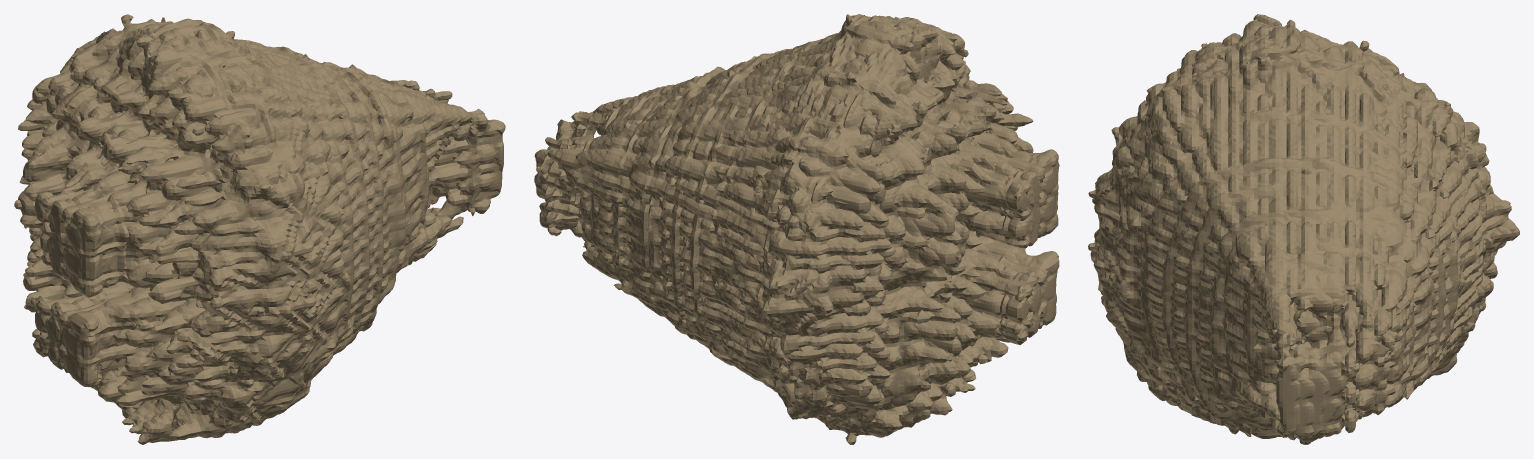
The model's file is raw.glb.
The picture shows the model from 3 angles, left to right: view 1: azimuth 30°, elevation 25°; view 2: azimuth 150°, elevation 25°; view 3: azimuth 270°, elevation 25°; orthographic projection.
Parts seen in each view (by area): view 1: world; view 2: world; view 3: world.
Part boxes in pixels (left/top/right/bottom): world: left=14, top=14, right=505, bottom=444; world: left=534, top=14, right=1059, bottom=444; world: left=1088, top=14, right=1519, bottom=444.
Size of the model in its own units: 1.6 by 1.31 by 1.28.
